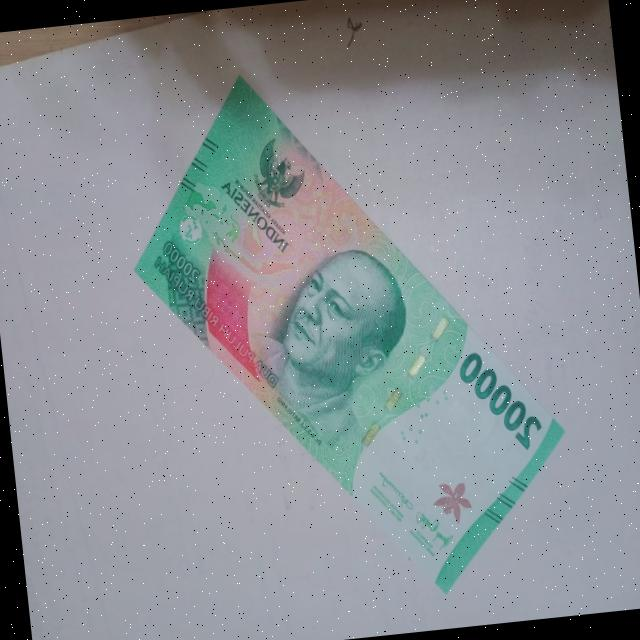20K: (106, 32, 584, 629)
